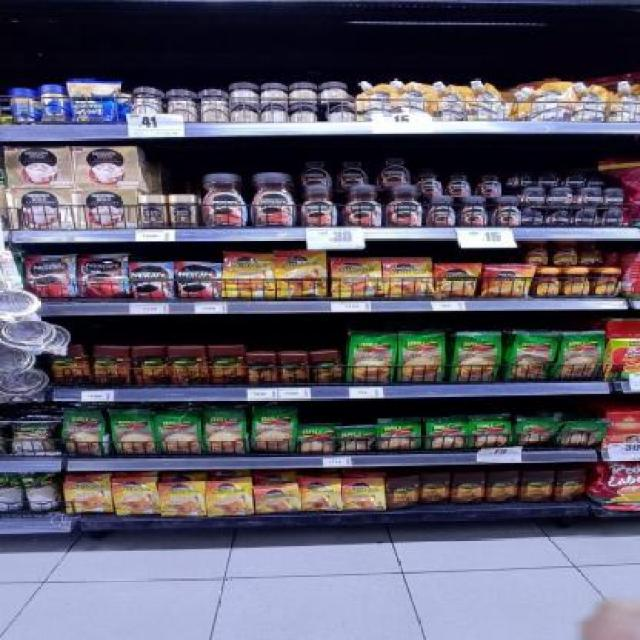Coffee: (250, 172, 296, 228), (202, 172, 246, 228), (223, 252, 275, 298), (276, 252, 327, 297), (79, 254, 130, 298), (26, 255, 74, 297), (383, 258, 432, 296), (332, 259, 378, 298), (176, 263, 222, 299), (207, 479, 253, 515), (481, 265, 531, 298), (129, 263, 174, 299), (342, 187, 382, 227), (65, 477, 110, 512), (160, 482, 206, 516), (384, 186, 422, 226), (115, 478, 157, 514), (300, 187, 337, 226), (300, 478, 342, 511), (343, 479, 385, 510), (437, 264, 475, 296), (374, 153, 412, 184), (254, 486, 298, 511), (336, 153, 369, 184), (300, 153, 330, 184), (427, 197, 456, 228), (459, 197, 488, 228), (139, 195, 166, 228), (493, 196, 519, 227), (172, 195, 196, 227), (536, 268, 559, 298), (447, 170, 473, 196), (565, 268, 590, 295), (596, 268, 618, 297), (553, 240, 576, 266), (526, 240, 548, 266), (582, 240, 604, 266), (420, 170, 442, 195), (480, 171, 502, 195), (575, 208, 600, 227), (548, 208, 572, 226), (601, 210, 625, 227), (509, 171, 533, 186), (548, 188, 570, 204), (521, 188, 544, 203), (523, 208, 542, 226), (578, 188, 602, 202), (606, 189, 628, 203), (566, 171, 585, 187), (540, 171, 558, 187), (590, 172, 608, 186)
